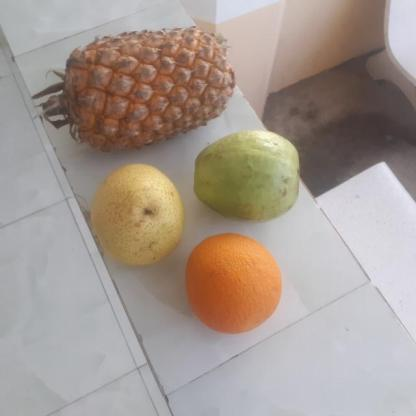guava: (190, 130, 301, 224)
orange: (179, 230, 283, 334)
pear: (86, 164, 184, 264)
pineapple: (56, 29, 231, 150)
